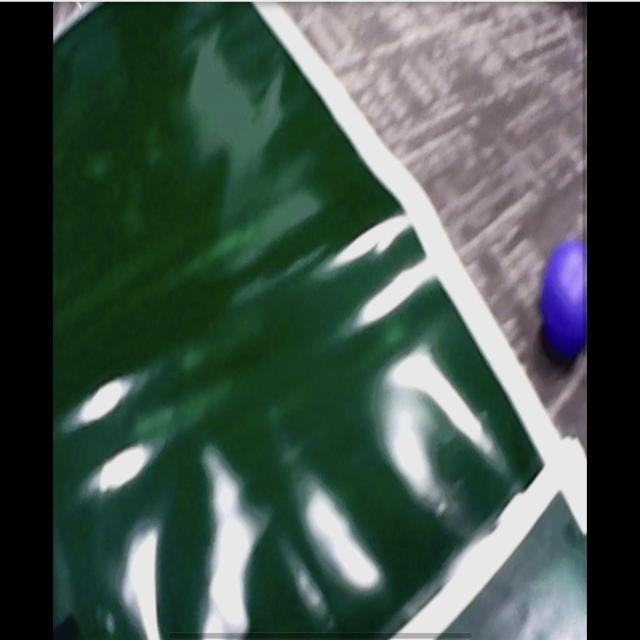ball: (541, 242, 587, 358)
